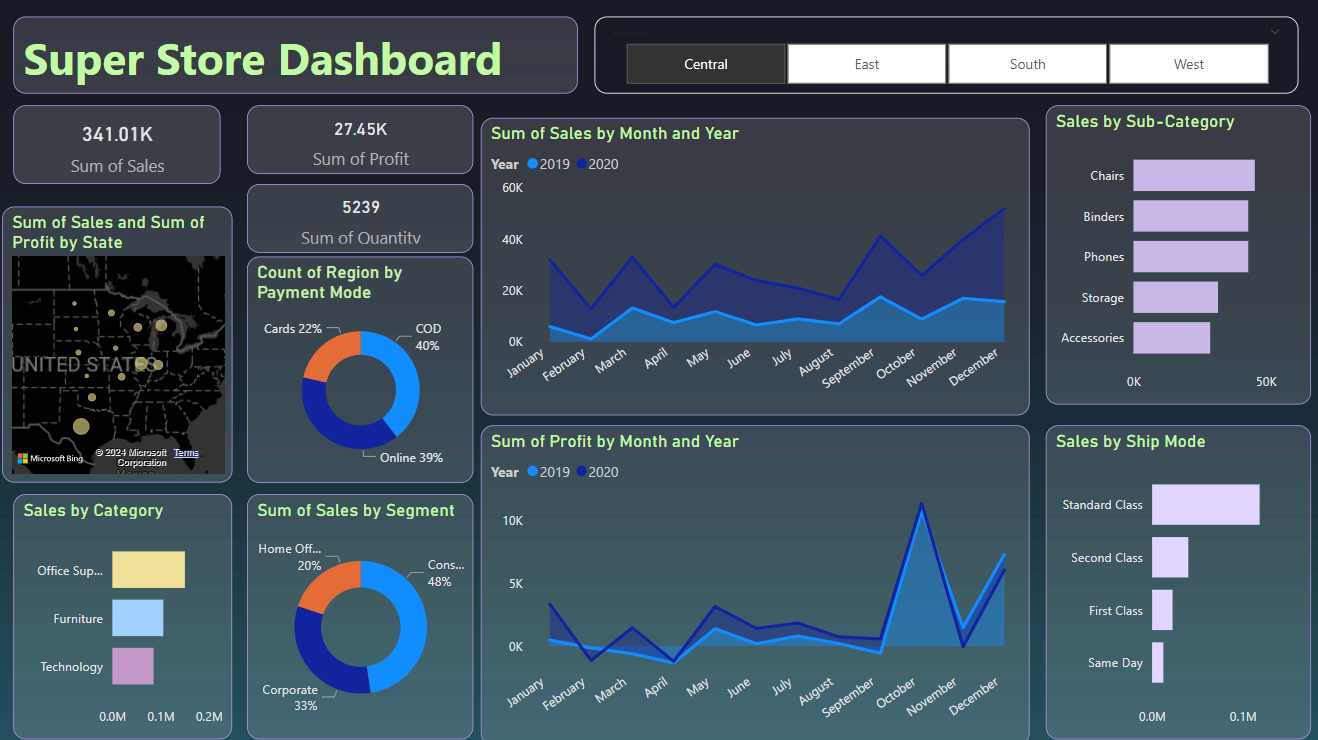

This screenshot's page, from the dashboard's own definition file:
{"tool":"powerbi","page":{"name":"Page 1","canvas":[1280,720],"ordinal":0},"visuals":[{"type":"clusteredBarChart","title":"Sales by Category","fields":{"Category":["SuperStore_Sales_Dataset.Category"],"Y":["Sum(SuperStore_Sales_Dataset.Sales)"]},"box":[15.5,477.5,211.3,236.6],"z":0},{"type":"clusteredBarChart","title":"Sales by Sub-Category","fields":{"Category":["SuperStore_Sales_Dataset.Sub-Category"],"Y":["Sum(SuperStore_Sales_Dataset.Sales)"]},"box":[1011.3,102.8,256.3,288.7],"z":1000},{"type":"clusteredBarChart","title":"Sales by Ship Mode","fields":{"Category":["SuperStore_Sales_Dataset.Ship Mode"],"Y":["Sum(SuperStore_Sales_Dataset.Sales)"]},"box":[1011.3,411.3,256.3,302.8],"z":2000},{"type":"stackedAreaChart","fields":{"Category":["SuperStore_Sales_Dataset.Order Date.Variation.Date Hierarchy.Month","SuperStore_Sales_Dataset.Order Date.Variation.Date Hierarchy.Day"],"Y":["Sum(SuperStore_Sales_Dataset.Sales)"],"Series":["SuperStore_Sales_Dataset.Order Date.Variation.Date Hierarchy.Year"]},"box":[466.2,114.1,529.6,287.3],"z":3000},{"type":"stackedAreaChart","fields":{"Category":["SuperStore_Sales_Dataset.Order Date.Variation.Date Hierarchy.Month","SuperStore_Sales_Dataset.Order Date.Variation.Date Hierarchy.Day"],"Series":["SuperStore_Sales_Dataset.Order Date.Variation.Date Hierarchy.Year"],"Y":["Sum(SuperStore_Sales_Dataset.Profit)"]},"box":[466.2,411.3,529.6,308.5],"z":4000},{"type":"map","fields":{"Category":["SuperStore_Sales_Dataset.State"],"Size":["Sum(SuperStore_Sales_Dataset.Sales)"]},"box":[4.2,200,222.5,266.2],"z":5000},{"type":"donutChart","fields":{"Y":["Sum(SuperStore_Sales_Dataset.Sales)"],"Category":["SuperStore_Sales_Dataset.Segment"]},"box":[240.8,477.5,218.3,236.6],"z":6000},{"type":"donutChart","fields":{"Y":["CountNonNull(SuperStore_Sales_Dataset.Region)"],"Category":["SuperStore_Sales_Dataset.Payment Mode"]},"box":[240.8,247.9,218.3,218.3],"z":7000},{"type":"slicer","fields":{"Values":["SuperStore_Sales_Dataset.Region"]},"box":[576.1,16.9,678.9,74.6],"z":8000},{"type":"textbox","box":[15.5,16.9,545.1,74.6],"z":9000},{"type":"card","fields":{"Values":["Sum(SuperStore_Sales_Dataset.Sales)"]},"box":[15.5,102.8,200,76.1],"z":10000},{"type":"card","fields":{"Values":["Sum(SuperStore_Sales_Dataset.Profit)"]},"box":[240.8,102.8,218.3,66.2],"z":11000},{"type":"card","fields":{"Values":["Sum(SuperStore_Sales_Dataset.Quantity)"]},"box":[240.8,178.9,218.3,66.2],"z":12000}]}

Visuals, with their boxes in screenshot pixels (x1, y1, x2, y2), scaled from the page's 1280x720 canvas onto the 1318x740 screenshot:
"Sales by Category" clusteredBarChart: BBox(16, 491, 234, 734)
"Sales by Sub-Category" clusteredBarChart: BBox(1041, 106, 1305, 402)
"Sales by Ship Mode" clusteredBarChart: BBox(1041, 423, 1305, 734)
stackedAreaChart - SuperStore_Sales_Dataset.Order Date.Variation.Date Hierarchy.Month x SuperStore_Sales_Dataset.Order Date.Variation.Date Hierarchy.Day: BBox(480, 117, 1025, 413)
stackedAreaChart - SuperStore_Sales_Dataset.Order Date.Variation.Date Hierarchy.Month x SuperStore_Sales_Dataset.Order Date.Variation.Date Hierarchy.Day: BBox(480, 423, 1025, 739)
map - SuperStore_Sales_Dataset.State x Sum(SuperStore_Sales_Dataset.Sales): BBox(4, 206, 233, 479)
donutChart - Sum(SuperStore_Sales_Dataset.Sales) x SuperStore_Sales_Dataset.Segment: BBox(248, 491, 473, 734)
donutChart - CountNonNull(SuperStore_Sales_Dataset.Region) x SuperStore_Sales_Dataset.Payment Mode: BBox(248, 255, 473, 479)
slicer - SuperStore_Sales_Dataset.Region: BBox(593, 17, 1292, 94)
textbox: BBox(16, 17, 577, 94)
card - Sum(SuperStore_Sales_Dataset.Sales): BBox(16, 106, 222, 184)
card - Sum(SuperStore_Sales_Dataset.Profit): BBox(248, 106, 473, 174)
card - Sum(SuperStore_Sales_Dataset.Quantity): BBox(248, 184, 473, 252)
